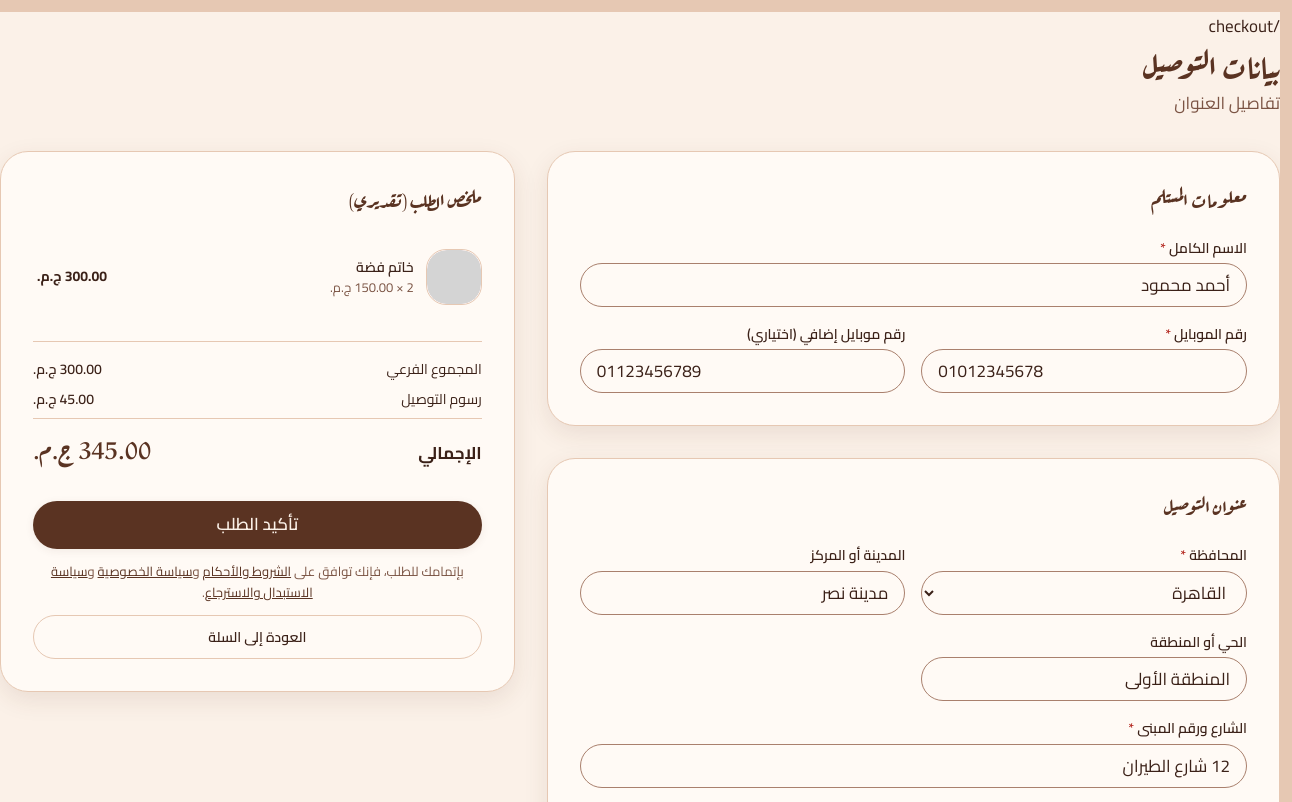
Test: CheckoutPage (T-4.02) › renders ErrorPanel when placeOrderApi throws an AppError
Click the button "تأكيد الطلب": point(257, 525) [33,501,482,549]
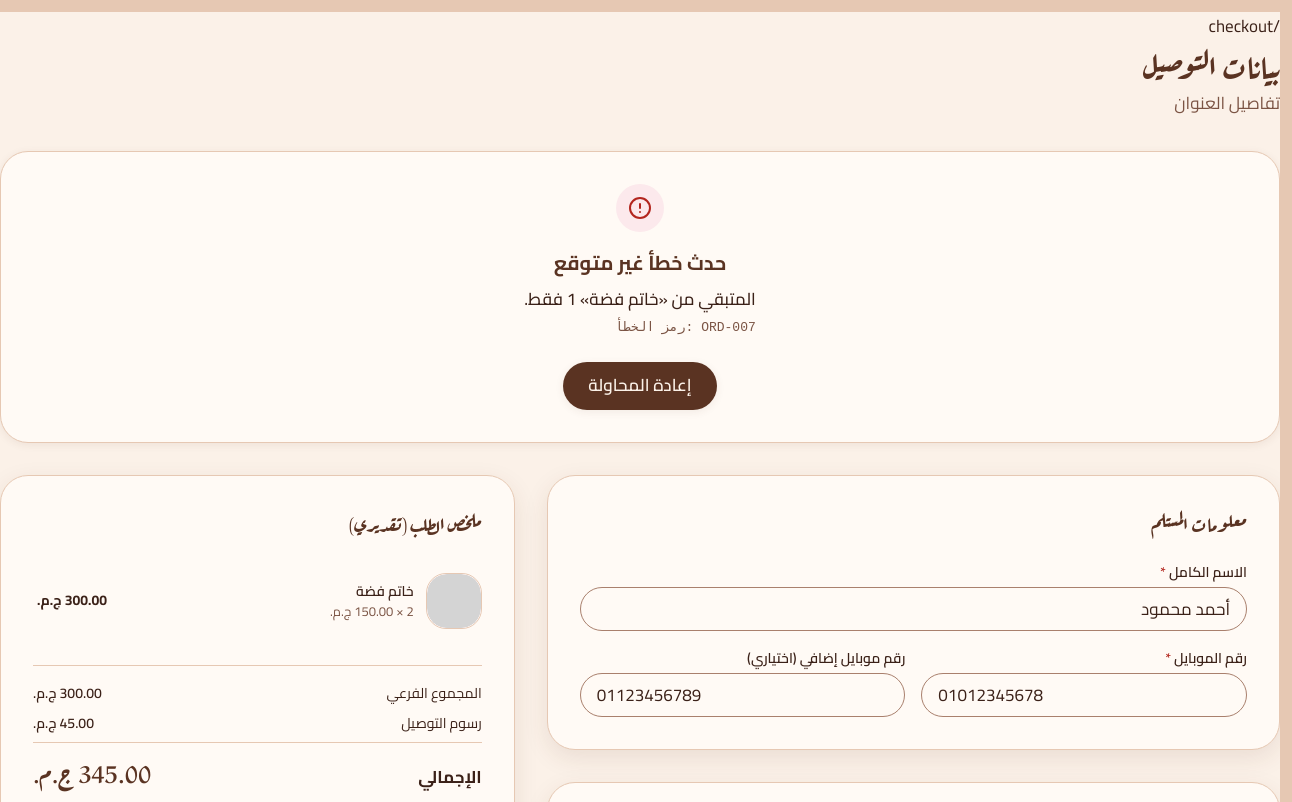
Now the message is shown, box [0,151,1280,443]
Now the text "المتبقي من «خاتم فضة» 1 فقط." is shown, box [524,285,756,314]
